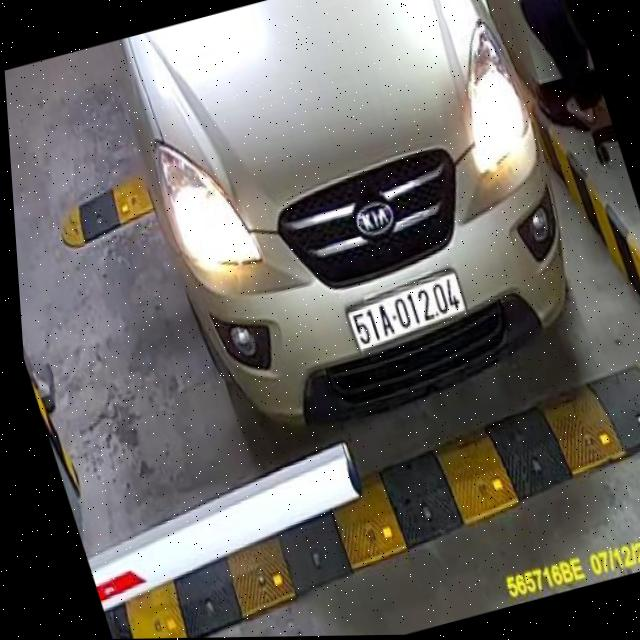car: (93, 0, 623, 467)
plate: (334, 265, 481, 358)
